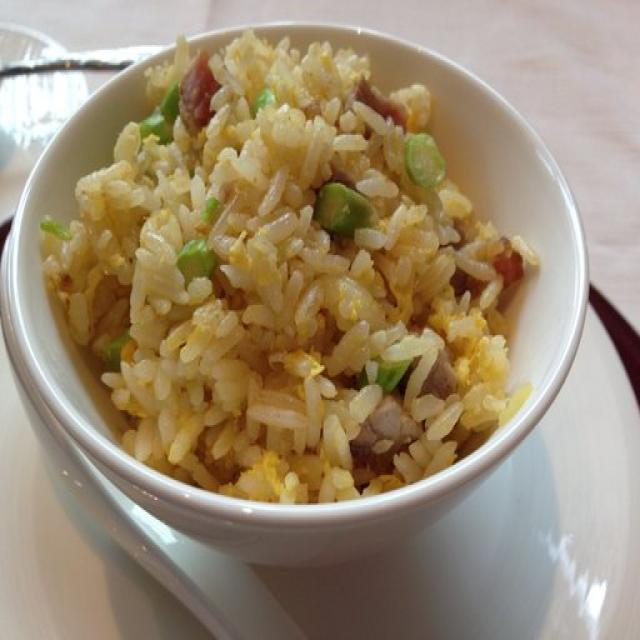Rice: (46, 20, 536, 508)
